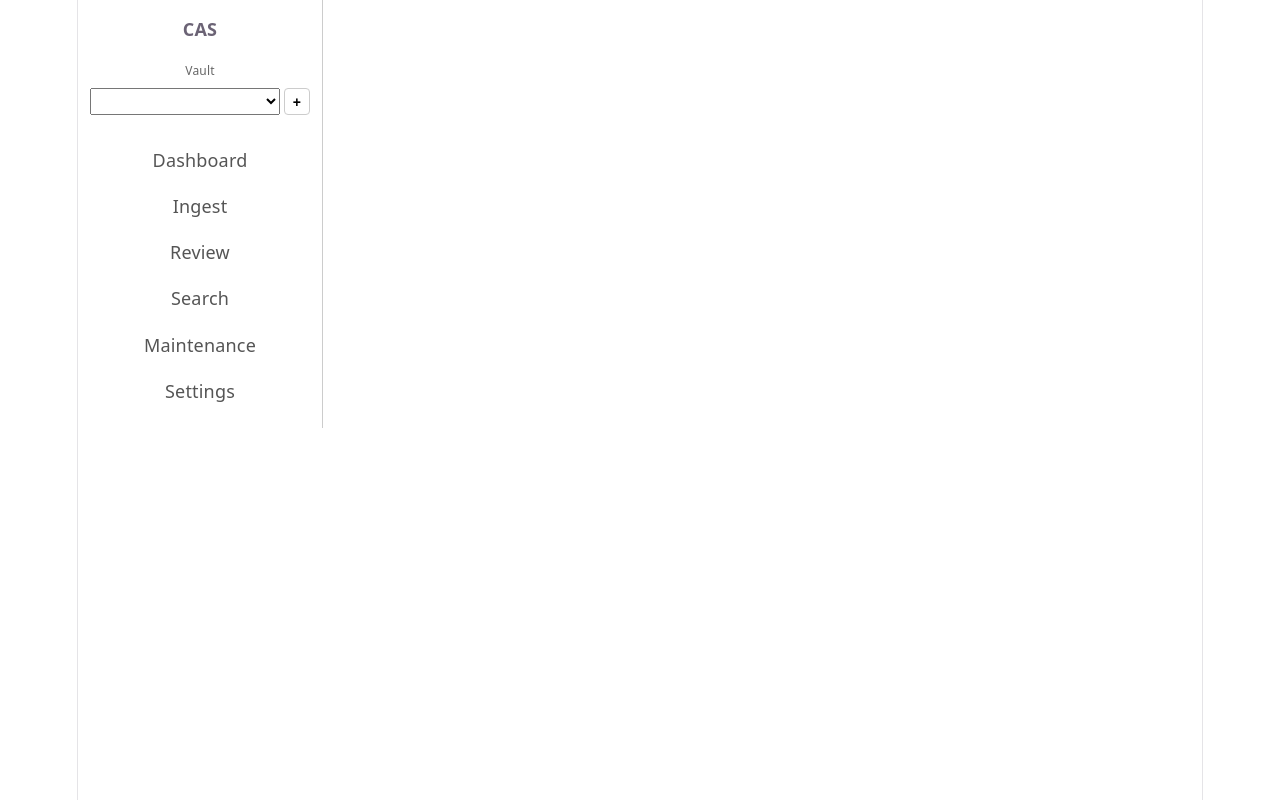
Test: Sidebar create-vault › surfaces the error and creates nothing when the scaffold fetch fails
Click the button titled "Create new vault" at (297, 102), box [284, 88, 310, 115]
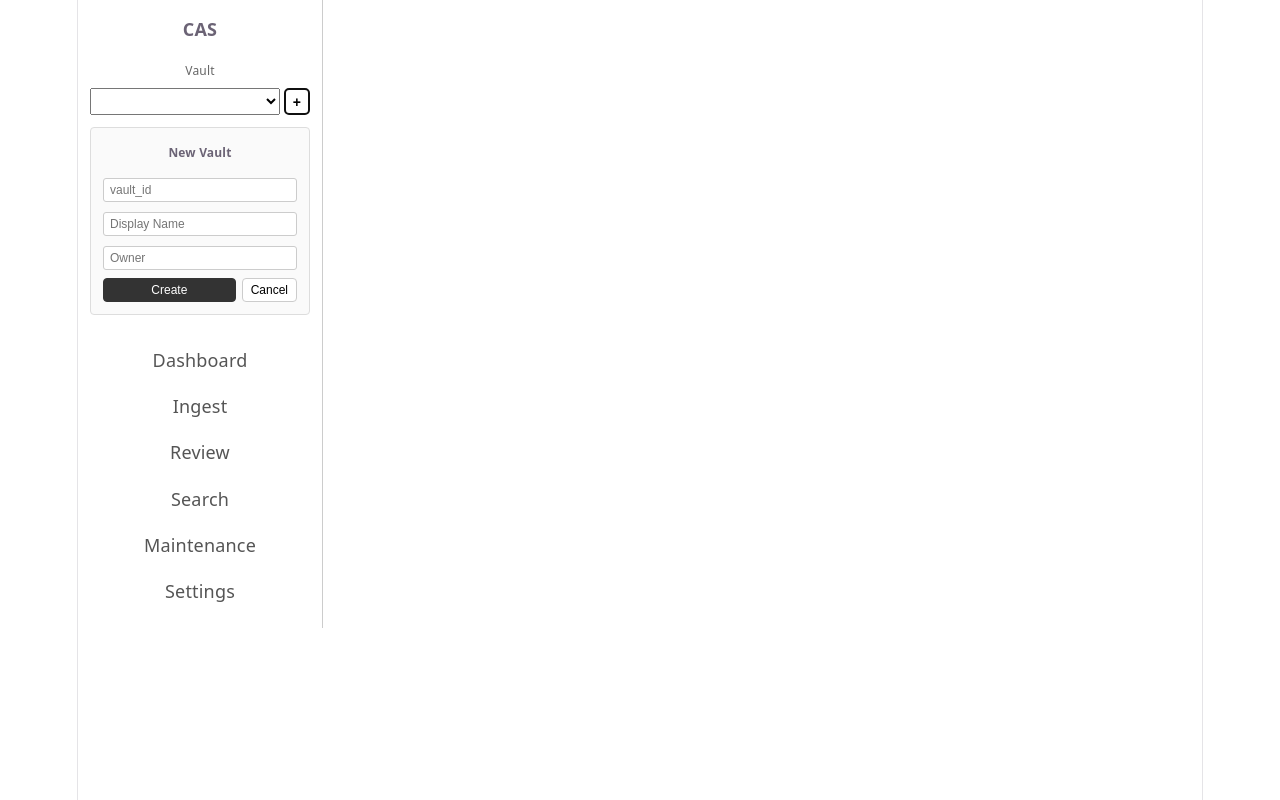
Type "new_vault" into the field with placeholder "vault_id" at (200, 190), box [103, 178, 297, 202]
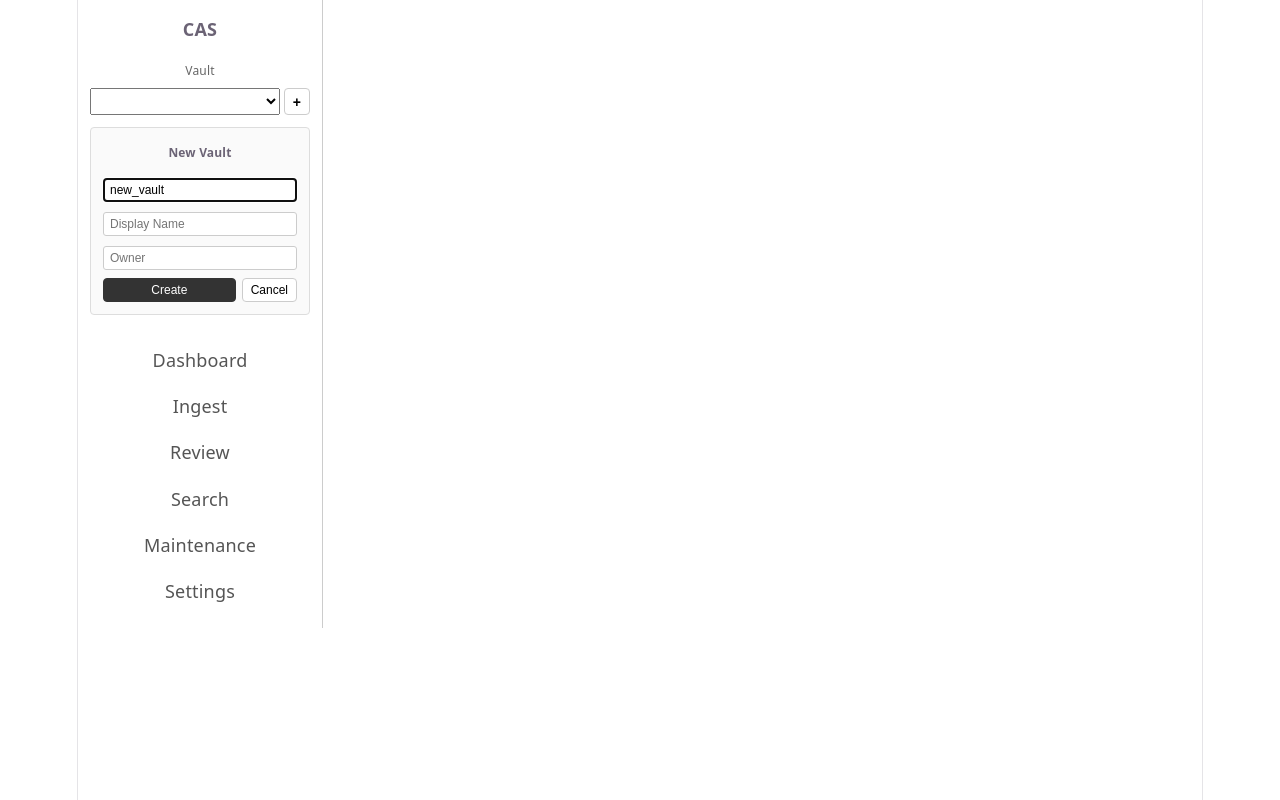
Type "New Vault" into the field with placeholder "Display Name" at (200, 224), box [103, 212, 297, 236]
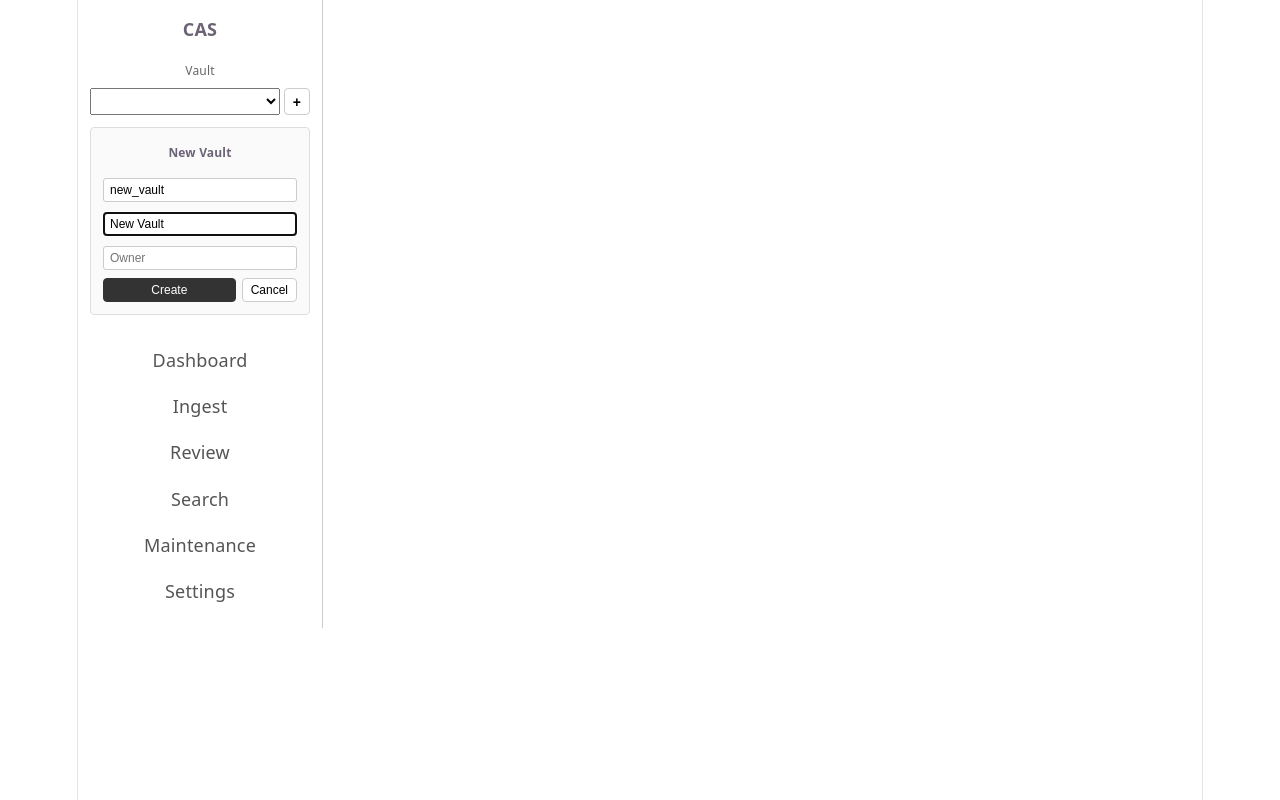
Type "someone" into the field with placeholder "Owner" at (200, 258), box [103, 246, 297, 270]
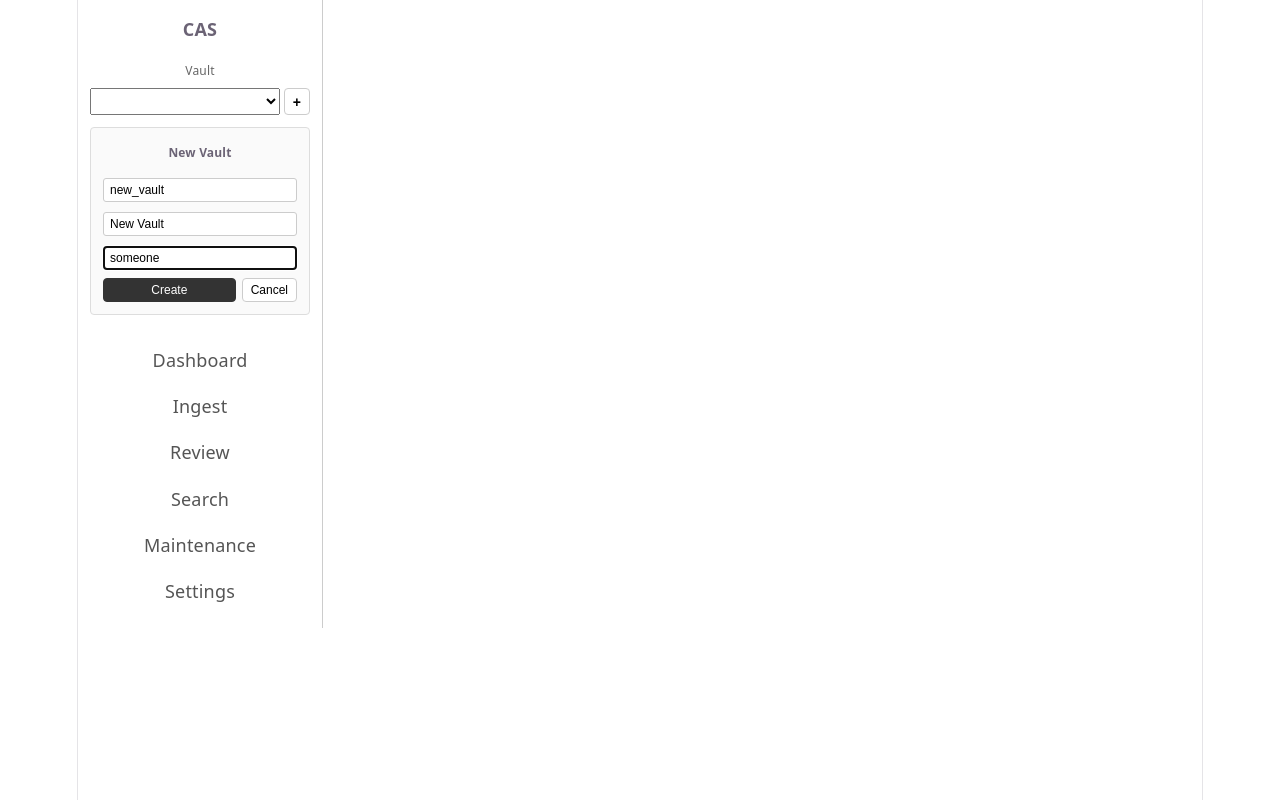
Click the button "Create" at (169, 290), box [103, 278, 236, 302]
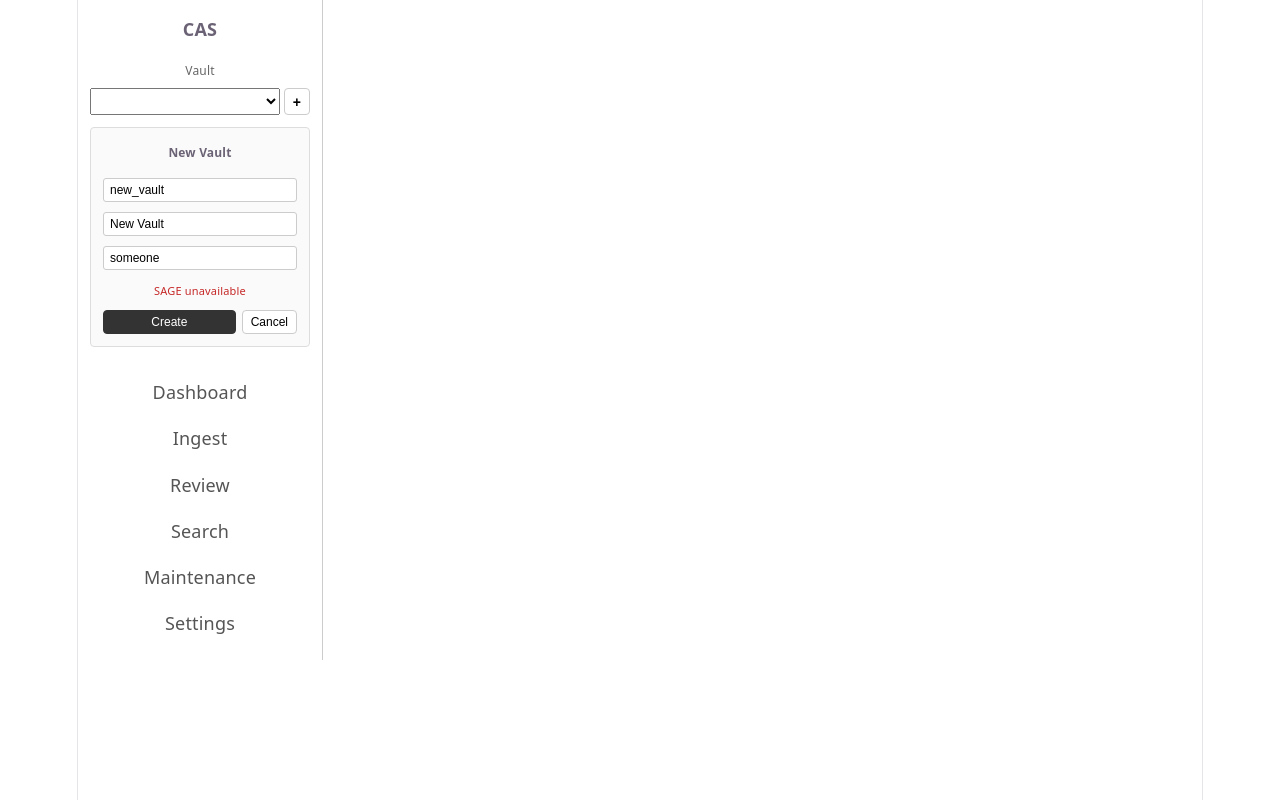
Check: the button "Create" is shown, box [103, 310, 236, 334]
Check: the text "SAGE unavailable" is shown, box [154, 283, 246, 298]
